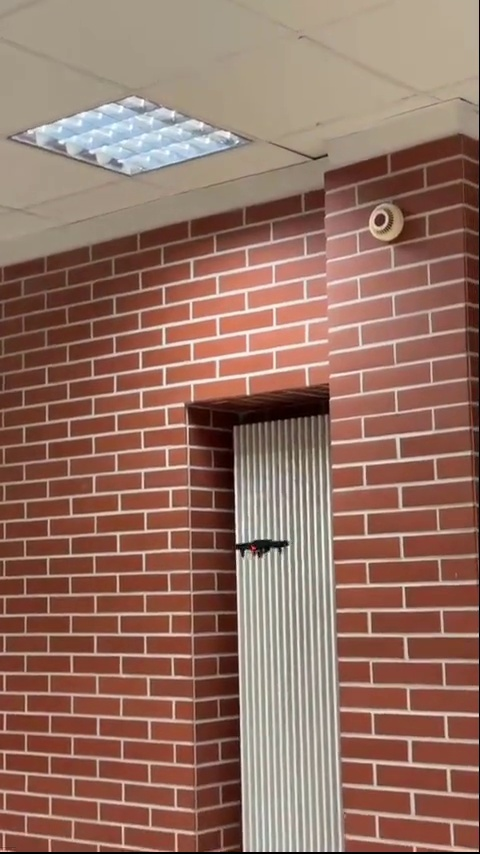drone: (236, 537, 289, 560)
